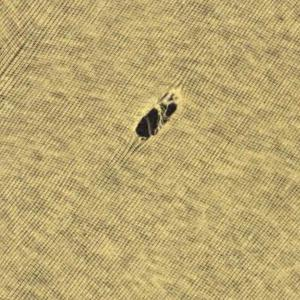hole: (135, 89, 179, 144)
